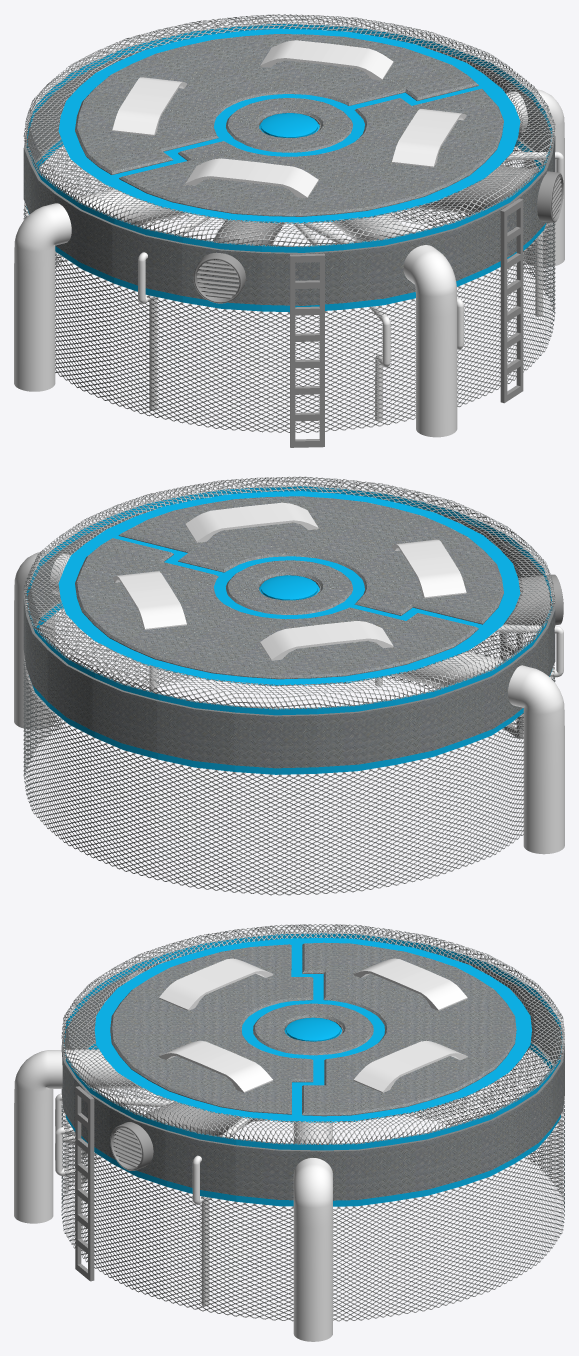
File: floor_is_lava_export_3.fbx
The picture shows the model from 3 angles, top to bottom: view 1: azimuth 30°, elevation 25°; view 2: azimuth 150°, elevation 25°; view 3: azimuth 270°, elevation 25°; orthographic projection. The views are drawn at different scales.
Parts seen in each view (by area): view 1: pCylinder19; view 2: pCylinder19; view 3: pCylinder19.
Boxes of the visible parts, x1=… form: pCylinder19: x1=14, y1=14, x2=564, y2=447; pCylinder19: x1=14, y1=476, x2=564, y2=895; pCylinder19: x1=14, y1=924, x2=564, y2=1341.
Size of the model in its own units: 339 by 131 by 312.
6 materials, 2 textured.
